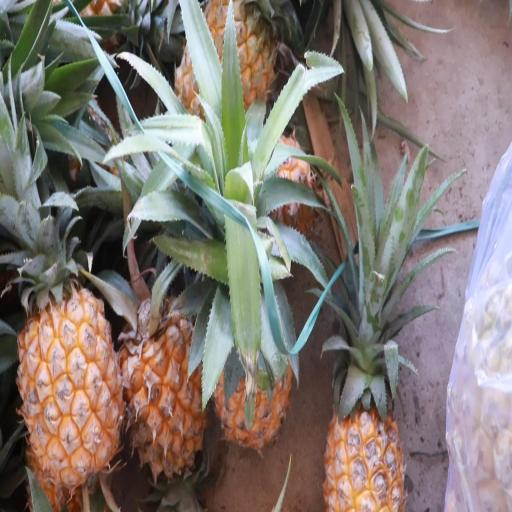Pineapple - v8 v1: (13, 278, 129, 496), (117, 289, 214, 490), (210, 255, 296, 458), (170, 0, 280, 154), (320, 339, 408, 512)
